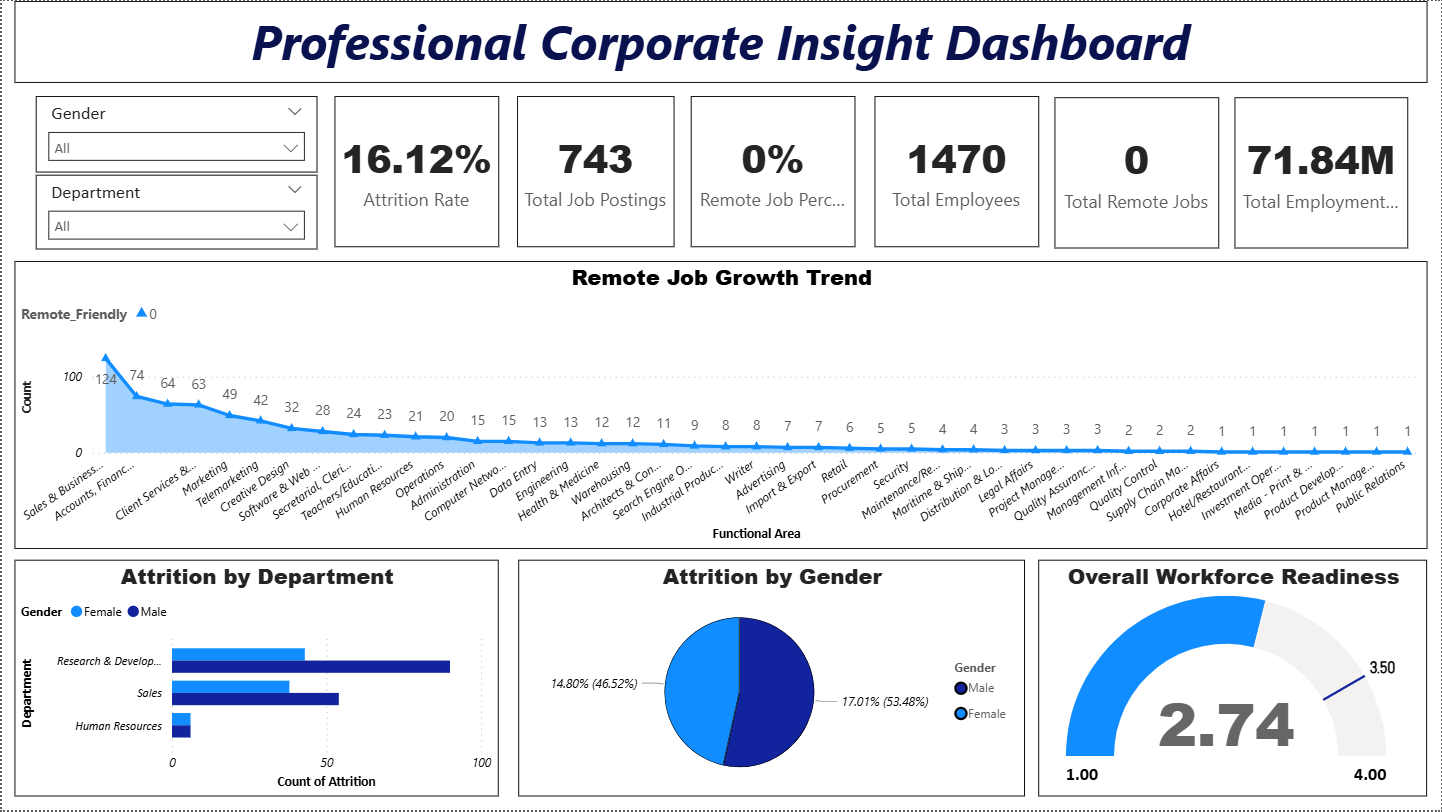

The page's visual inventory and layout, read from the dashboard file:
{"tool":"powerbi","page":{"name":"Overview Dashboard","canvas":[1280,720],"ordinal":0},"visuals":[{"type":"card","fields":{"Values":["CountNonNull(IBM_HR.MonthlyIncome)"]},"box":[776,84,146,134],"z":0},{"type":"card","fields":{"Values":["CountNonNull(Rozee_Market.Job Type)"]},"box":[458,84,140,134],"z":1000},{"type":"card","fields":{"Values":["IBM_HR.Attrition Rate"]},"box":[296,84,146,134],"z":2000},{"type":"card","fields":{"Values":["Rozee_Market.Total Remote Jobs"]},"box":[936,86,146,134],"z":3000},{"type":"card","fields":{"Values":["Rozee_Market.Remote Job Percentage"]},"box":[612,84,146,134],"z":4000},{"type":"card","fields":{"Values":["Sum(Pakistan_Employment.total)"]},"box":[1096,86,154,134],"z":5000},{"type":"pieChart","title":"Attrition by Gender","fields":{"Category":["IBM_HR.Gender"],"Y":["IBM_HR.Attrition Rate"]},"box":[458.6,497.1,450,210],"z":6000},{"type":"clusteredBarChart","title":"Attrition by Department","fields":{"Category":["IBM_HR.Department"],"Y":["CountNonNull(IBM_HR.Attrition)"],"Series":["IBM_HR.Gender"]},"box":[11.4,497.1,430,210],"z":7000},{"type":"lineChart","title":"Remote Job Growth Trend","fields":{"Category":["Rozee_Market.Functional Area"],"Y":["CountNonNull(Rozee_Market.Title)"],"Series":["Rozee_Market.Remote_Friendly"]},"box":[11.4,231.4,1255.7,255.7],"z":8000},{"type":"gauge","title":"Overall Workforce Readiness","fields":{"Y":["IBM_HR.Workforce Readiness Score"]},"box":[921.4,497.1,345.7,210],"z":9000},{"type":"textbox","box":[11.4,0,1255.7,72.9],"z":10000},{"type":"slicer","fields":{"Values":["IBM_HR.Gender"]},"box":[30,84,250,68],"z":11000},{"type":"slicer","fields":{"Values":["IBM_HR.Department"]},"box":[30,154,250,66],"z":12000}]}

Visuals, with their boxes in screenshot pixels (x1, y1, x2, y2), scaled from the page's 1280x720 canvas onto the 1442x812 screenshot:
card - CountNonNull(IBM_HR.MonthlyIncome): pyautogui.locateOnScreen(874, 95, 1039, 246)
card - CountNonNull(Rozee_Market.Job Type): pyautogui.locateOnScreen(516, 95, 674, 246)
card - IBM_HR.Attrition Rate: pyautogui.locateOnScreen(333, 95, 498, 246)
card - Rozee_Market.Total Remote Jobs: pyautogui.locateOnScreen(1054, 97, 1219, 248)
card - Rozee_Market.Remote Job Percentage: pyautogui.locateOnScreen(689, 95, 854, 246)
card - Sum(Pakistan_Employment.total): pyautogui.locateOnScreen(1235, 97, 1408, 248)
"Attrition by Gender" pieChart: pyautogui.locateOnScreen(517, 561, 1024, 797)
"Attrition by Department" clusteredBarChart: pyautogui.locateOnScreen(13, 561, 497, 797)
"Remote Job Growth Trend" lineChart: pyautogui.locateOnScreen(13, 261, 1427, 549)
"Overall Workforce Readiness" gauge: pyautogui.locateOnScreen(1038, 561, 1427, 797)
textbox: pyautogui.locateOnScreen(13, 0, 1427, 82)
slicer - IBM_HR.Gender: pyautogui.locateOnScreen(34, 95, 315, 171)
slicer - IBM_HR.Department: pyautogui.locateOnScreen(34, 174, 315, 248)
